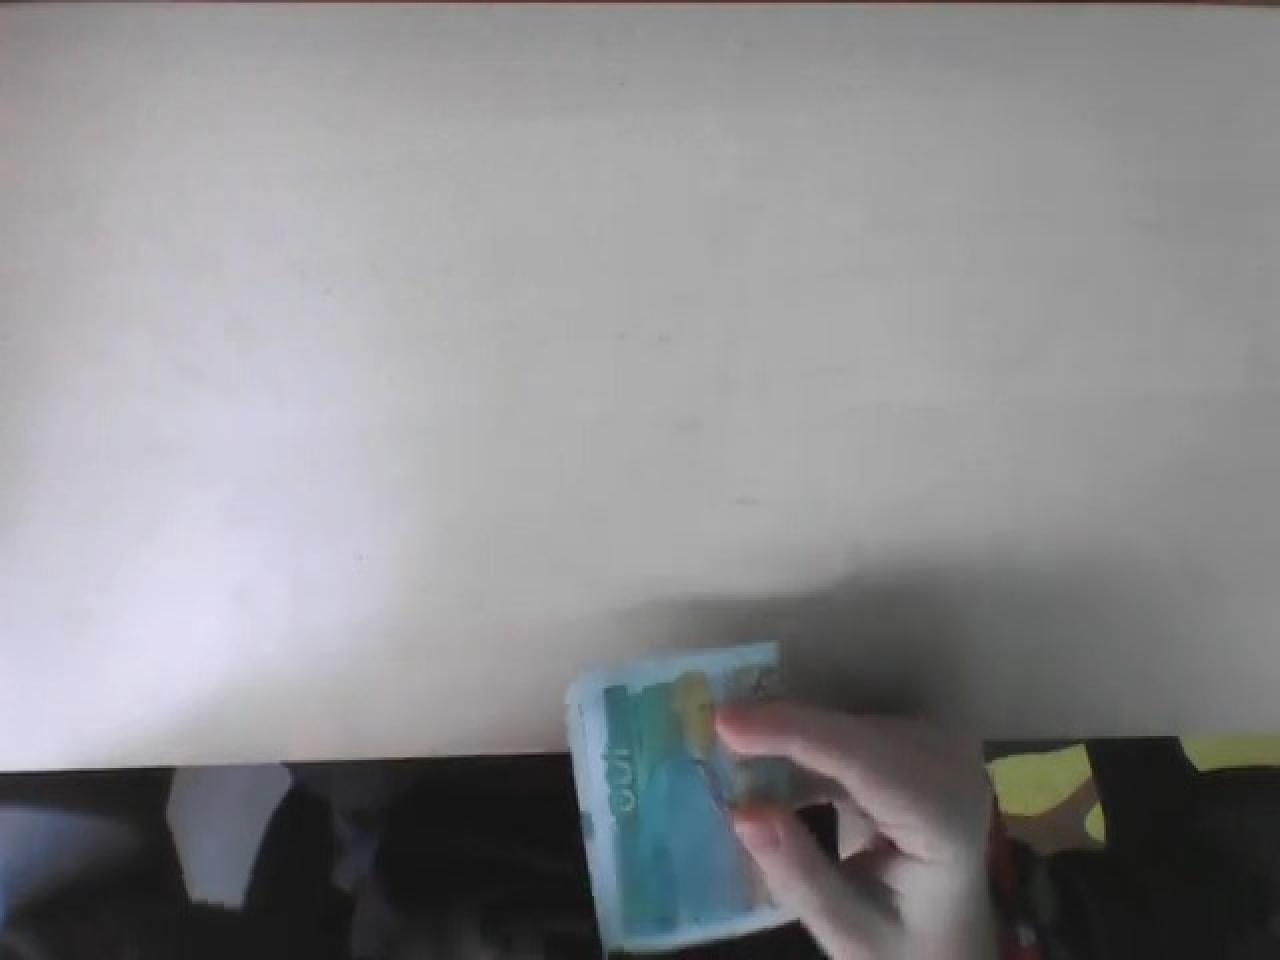100leva: (564, 640, 792, 955)
